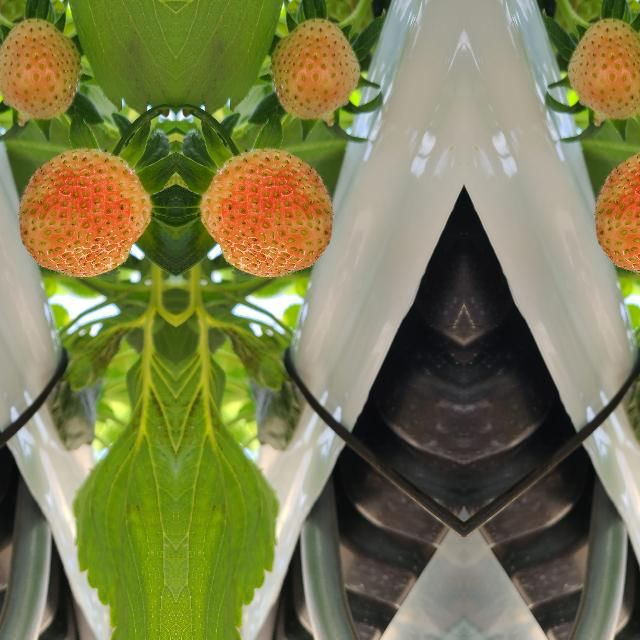Health_50: (198, 146, 332, 278), (18, 146, 152, 278), (272, 28, 358, 114), (0, 27, 78, 114), (567, 27, 640, 114), (594, 146, 640, 278)
